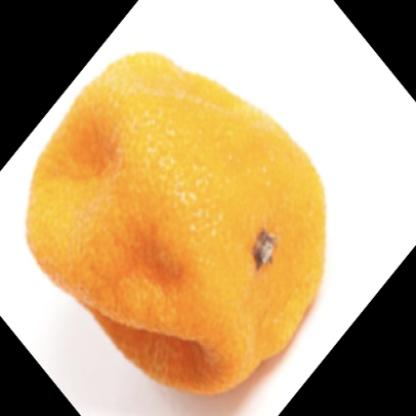rotten: (26, 51, 324, 397)
